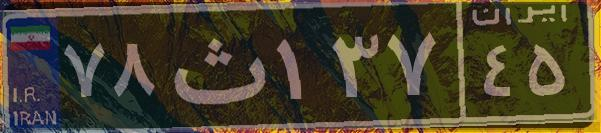1: (273, 28, 330, 110)
3: (330, 28, 385, 110)
4: (475, 38, 525, 113)
5: (525, 38, 570, 115)
7: (385, 28, 445, 110), (57, 26, 110, 107)
8: (110, 28, 158, 105)
ث: (158, 15, 273, 115)
